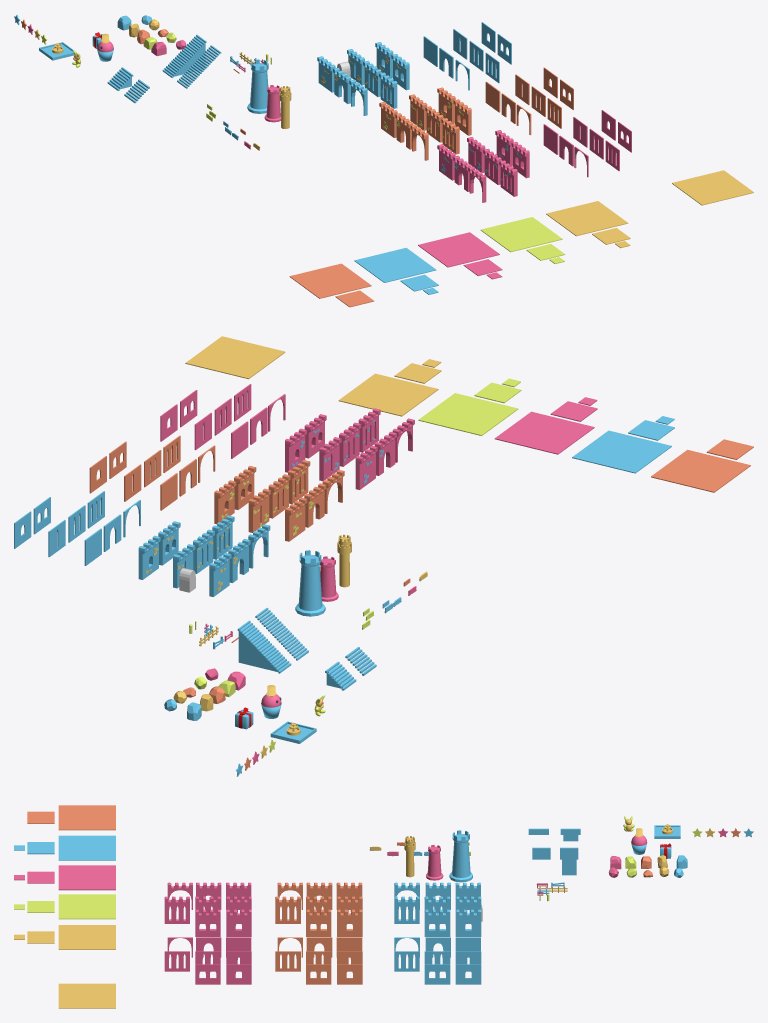
File: castle_kit_walls.fbx
3 renders of one model, top to bottom at view 1: azimuth 30°, elevation 25°; view 2: azimuth 150°, elevation 25°; view 3: azimuth 270°, elevation 25°, orthographic. The views are drawn at different scales.
Parts seen in each view (by area): view 1: Cube.021, Cube.014, Cube.019, Cube.006, Cube.011, Cube.003, Cube.026, Cylinder.001, Cube.027, Cube.042, Cube.055, Cube.035 (+7 smaller); view 2: Cube.011, Cube.003, Cube.019, Cube.006, Cube.021, Cube.014, Cube.026, Cylinder.001, Cube.027, Cube.033, Cube.029, Cube.015 (+7 smaller); view 3: Cube.021, Cube.003, Cube.006, Cube.011, Cube.019, Cube.014, Cylinder.001, Cube.037, Cube.018, Cube.051, Cube.036, Cube.055 (+38 smaller).
Part boxes in pixels (x1=…): Cube.021: x1=289, y1=263, x2=371, y2=298; Cube.014: x1=546, y1=201, x2=628, y2=236; Cube.019: x1=672, y1=170, x2=753, y2=205; Cube.006: x1=418, y1=232, x2=499, y2=267; Cube.011: x1=480, y1=217, x2=562, y2=252; Cube.003: x1=354, y1=247, x2=436, y2=282; Cube.026: x1=162, y1=34, x2=206, y2=77; Cylinder.001: x1=247, y1=59, x2=268, y2=113; Cube.027: x1=177, y1=45, x2=221, y2=88; Cube.042: x1=379, y1=72, x2=397, y2=108; Cube.055: x1=499, y1=160, x2=517, y2=196; Cube.035: x1=441, y1=118, x2=459, y2=154; Cube.011: x1=418, y1=393, x2=518, y2=435; Cube.003: x1=572, y1=430, x2=671, y2=473; Cube.019: x1=185, y1=336, x2=285, y2=379; Cube.006: x1=494, y1=411, x2=594, y2=454; Cube.021: x1=651, y1=449, x2=750, y2=492; Cube.014: x1=338, y1=373, x2=438, y2=416; Cube.026: x1=237, y1=620, x2=291, y2=673; Cylinder.001: x1=295, y1=550, x2=325, y2=616; Cube.027: x1=255, y1=608, x2=308, y2=660; Cube.033: x1=248, y1=488, x2=270, y2=532; Cube.029: x1=209, y1=552, x2=231, y2=596; Cube.015: x1=285, y1=497, x2=307, y2=541; Cube.021: x1=58, y1=805, x2=115, y2=830; Cube.003: x1=58, y1=835, x2=115, y2=860; Cube.006: x1=58, y1=865, x2=115, y2=890; Cube.011: x1=58, y1=894, x2=115, y2=919; Cube.019: x1=58, y1=983, x2=115, y2=1008; Cube.014: x1=58, y1=925, x2=115, y2=949; Cylinder.001: x1=449, y1=830, x2=472, y2=882; Cube.037: x1=455, y1=909, x2=481, y2=936; Cube.018: x1=337, y1=909, x2=362, y2=936; Cube.051: x1=226, y1=909, x2=251, y2=936; Cube.036: x1=424, y1=909, x2=450, y2=936; Cube.055: x1=164, y1=896, x2=189, y2=923.
Bounding box in the file's own units: 8773 × 961 × 13549.
